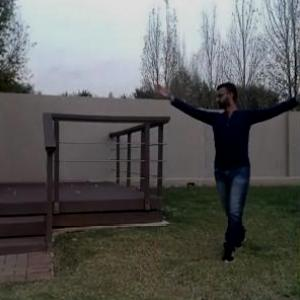takeoff: (155, 80, 299, 259)
